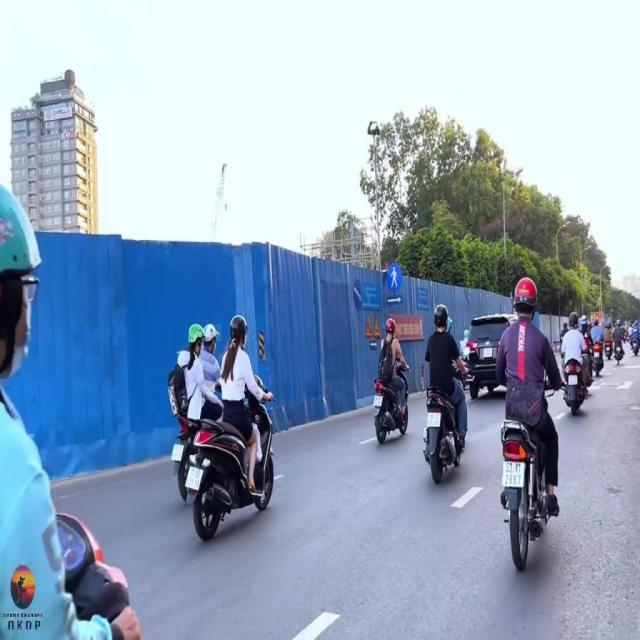cong_truong: (366, 313, 372, 338)
di_cham: (373, 312, 381, 336)
duong_cho_nguoi_di_bo: (386, 262, 402, 291)
duong_mot_chieu: (386, 295, 402, 305), (370, 341, 378, 350)
huong_phai_di_vuot_chuong_ngai_vat_phai: (353, 278, 363, 312)
